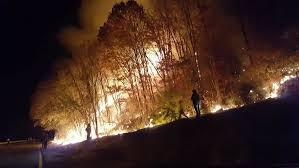fire: (59, 40, 169, 143), (264, 64, 299, 99)
